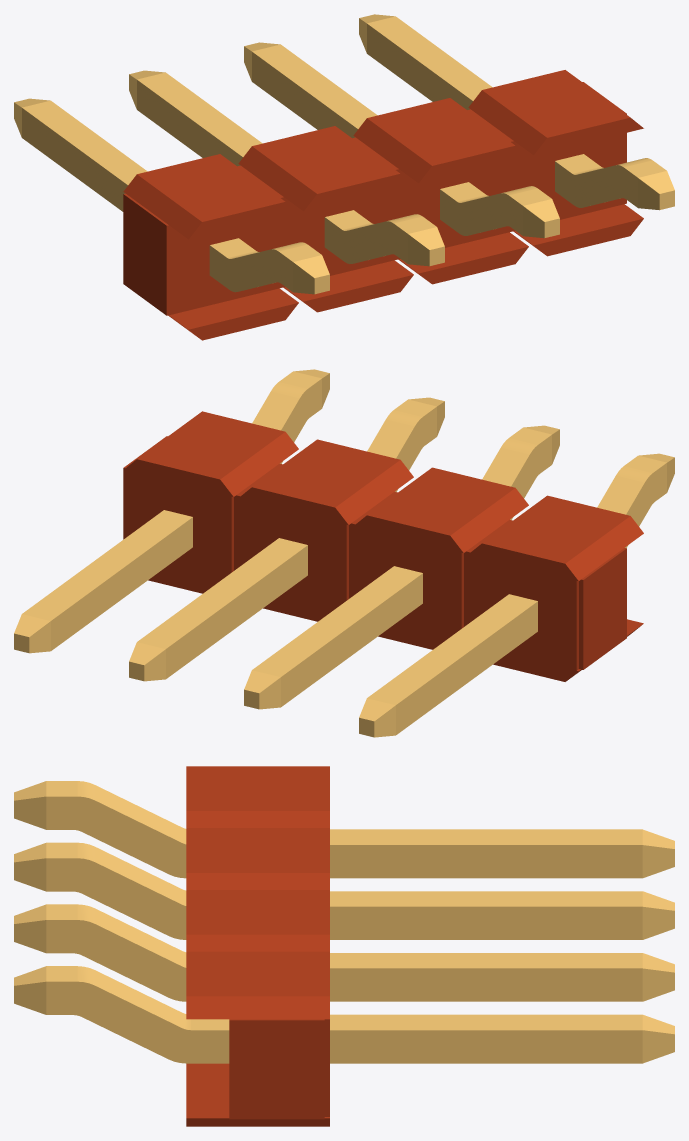
File: sfe-1x04_horizontal_smd.glb
The picture shows the model from 3 angles, top to bottom: view 1: azimuth 30°, elevation 25°; view 2: azimuth 150°, elevation 25°; view 3: azimuth 270°, elevation 25°; orthographic projection. The views are drawn at different scales.
Visible parts, largest first — view 1: 0.5_0.08333333333333333_0_0, 1_0.5833333333333334_0.16666666666666666_0; view 2: 0.5_0.08333333333333333_0_0, 1_0.5833333333333334_0.16666666666666666_0; view 3: 1_0.5833333333333334_0.16666666666666666_0, 0.5_0.08333333333333333_0_0.
Boxes of the visible parts, box(x1,y1,x2,y2) form: 0.5_0.08333333333333333_0_0: box(123, 70, 643, 340); 1_0.5833333333333334_0.16666666666666666_0: box(14, 14, 674, 294); 0.5_0.08333333333333333_0_0: box(123, 411, 643, 681); 1_0.5833333333333334_0.16666666666666666_0: box(14, 369, 674, 737); 1_0.5833333333333334_0.16666666666666666_0: box(14, 781, 674, 1063); 0.5_0.08333333333333333_0_0: box(186, 766, 329, 1126).
Bounding box in the file's own units: 1.02 × 0.25 × 1.15.
